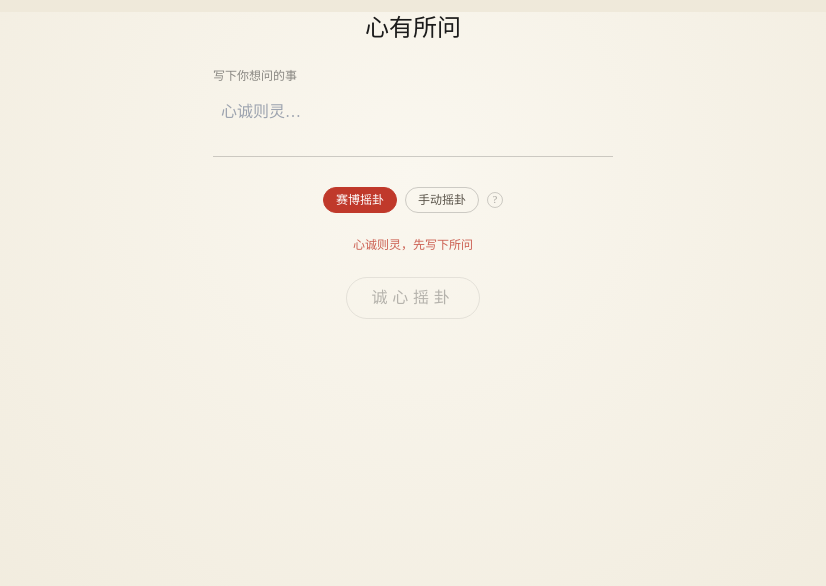
Test: QuestionInput › ? 折叠模式说明
expect the text "密码学随机" is not shown: met
Click the button "?" at (495, 200), box [487,192,503,208]
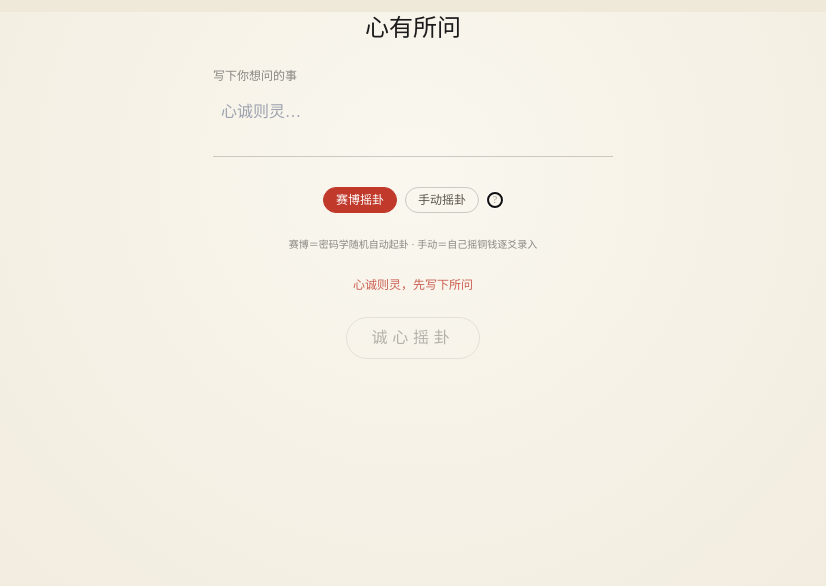
expect the text "赛博＝密码学随机自动起卦 · 手动＝自己摇铜钱逐爻录入" is shown: met, box [289,237,537,253]
